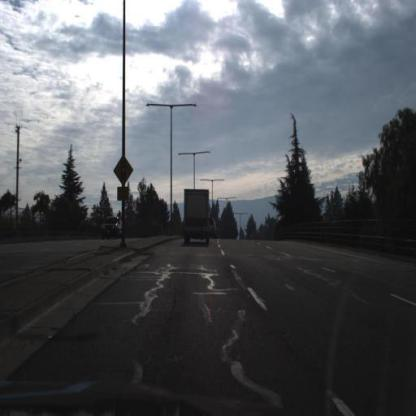car: (101, 217, 125, 239), (209, 216, 220, 239)
truck: (183, 187, 211, 248)
